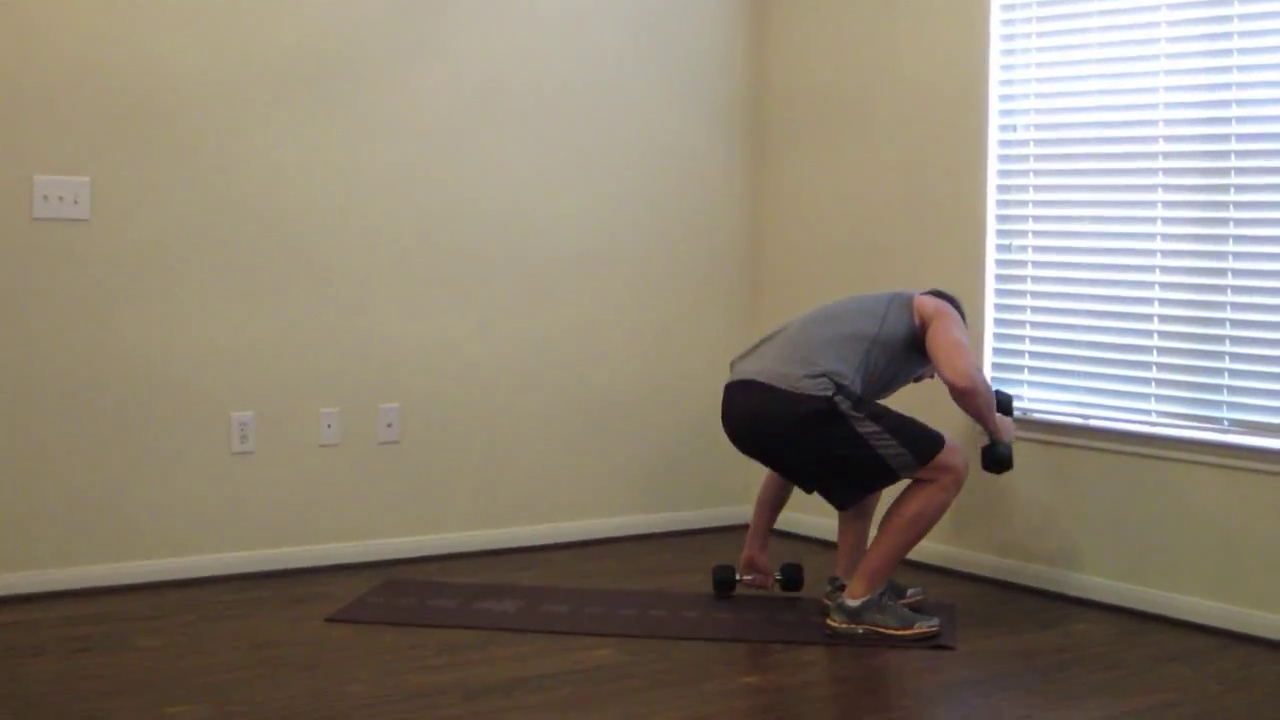person: (720, 288, 1016, 642)
